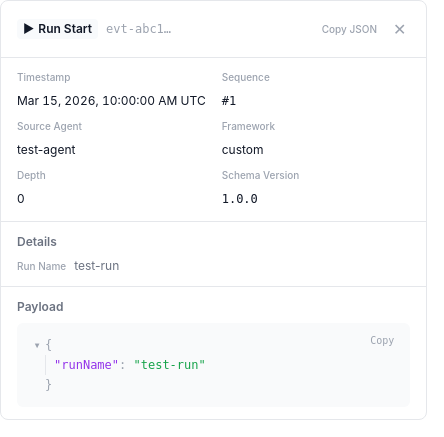
Scenario: EventDetailPanel › copies event ID to clipboard on id button click
What coordinates should you click on to do the following:
click the button with aria-label "Copy event ID"
I would click on:
 (138, 29)
Its box is [106, 21, 171, 37].
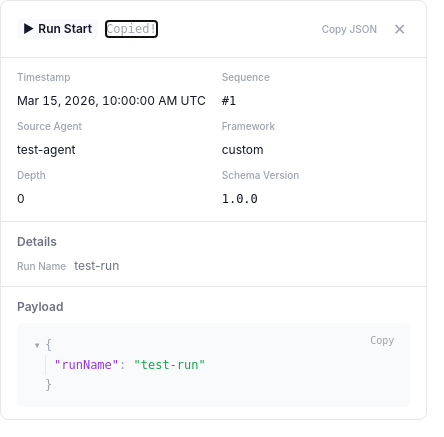
Expected: the button "Copied!" is shown, [106, 21, 157, 37]
